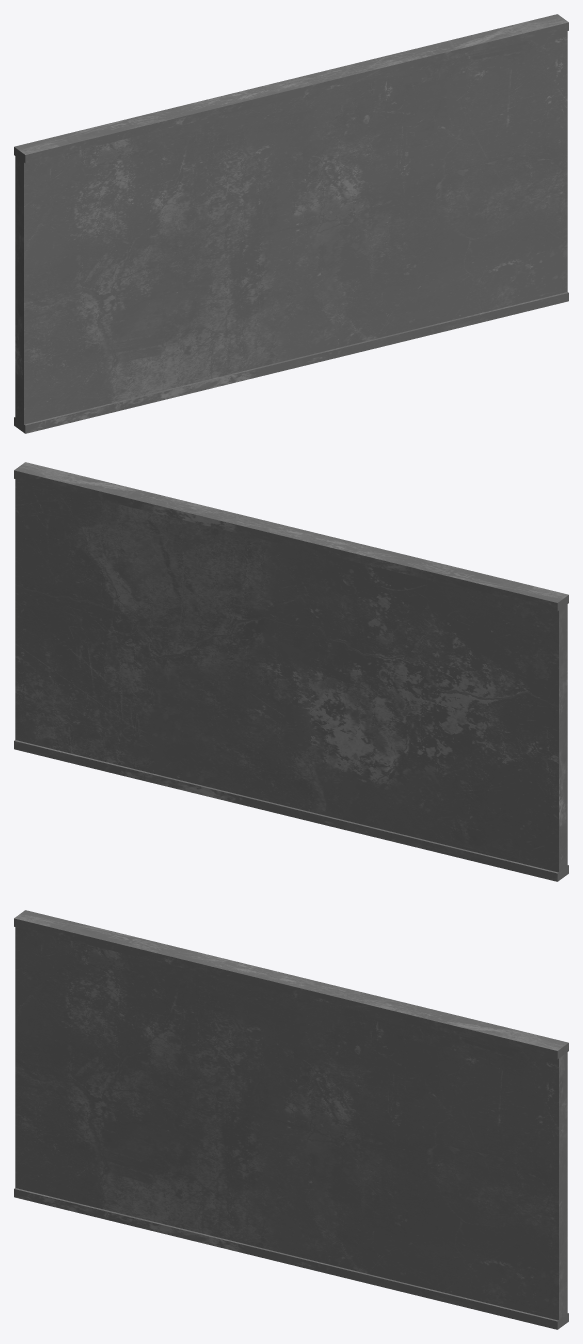
The model's file is WALL BASEMENT 1.fbx.
3 views of the same model, one above another, from view 1: azimuth 30°, elevation 25°; view 2: azimuth 150°, elevation 25°; view 3: azimuth 330°, elevation 25° (orthographic).
Visible parts, largest first — view 1: WALL BASEMENT 1; view 2: WALL BASEMENT 1; view 3: WALL BASEMENT 1.
Part boxes in pixels (box(x1,y1,x2,y2)): WALL BASEMENT 1: box(14, 14, 568, 433); WALL BASEMENT 1: box(14, 462, 568, 881); WALL BASEMENT 1: box(14, 910, 568, 1329).
Bounding box in the file's own units: 5.34 × 2.62 × 0.1936.
